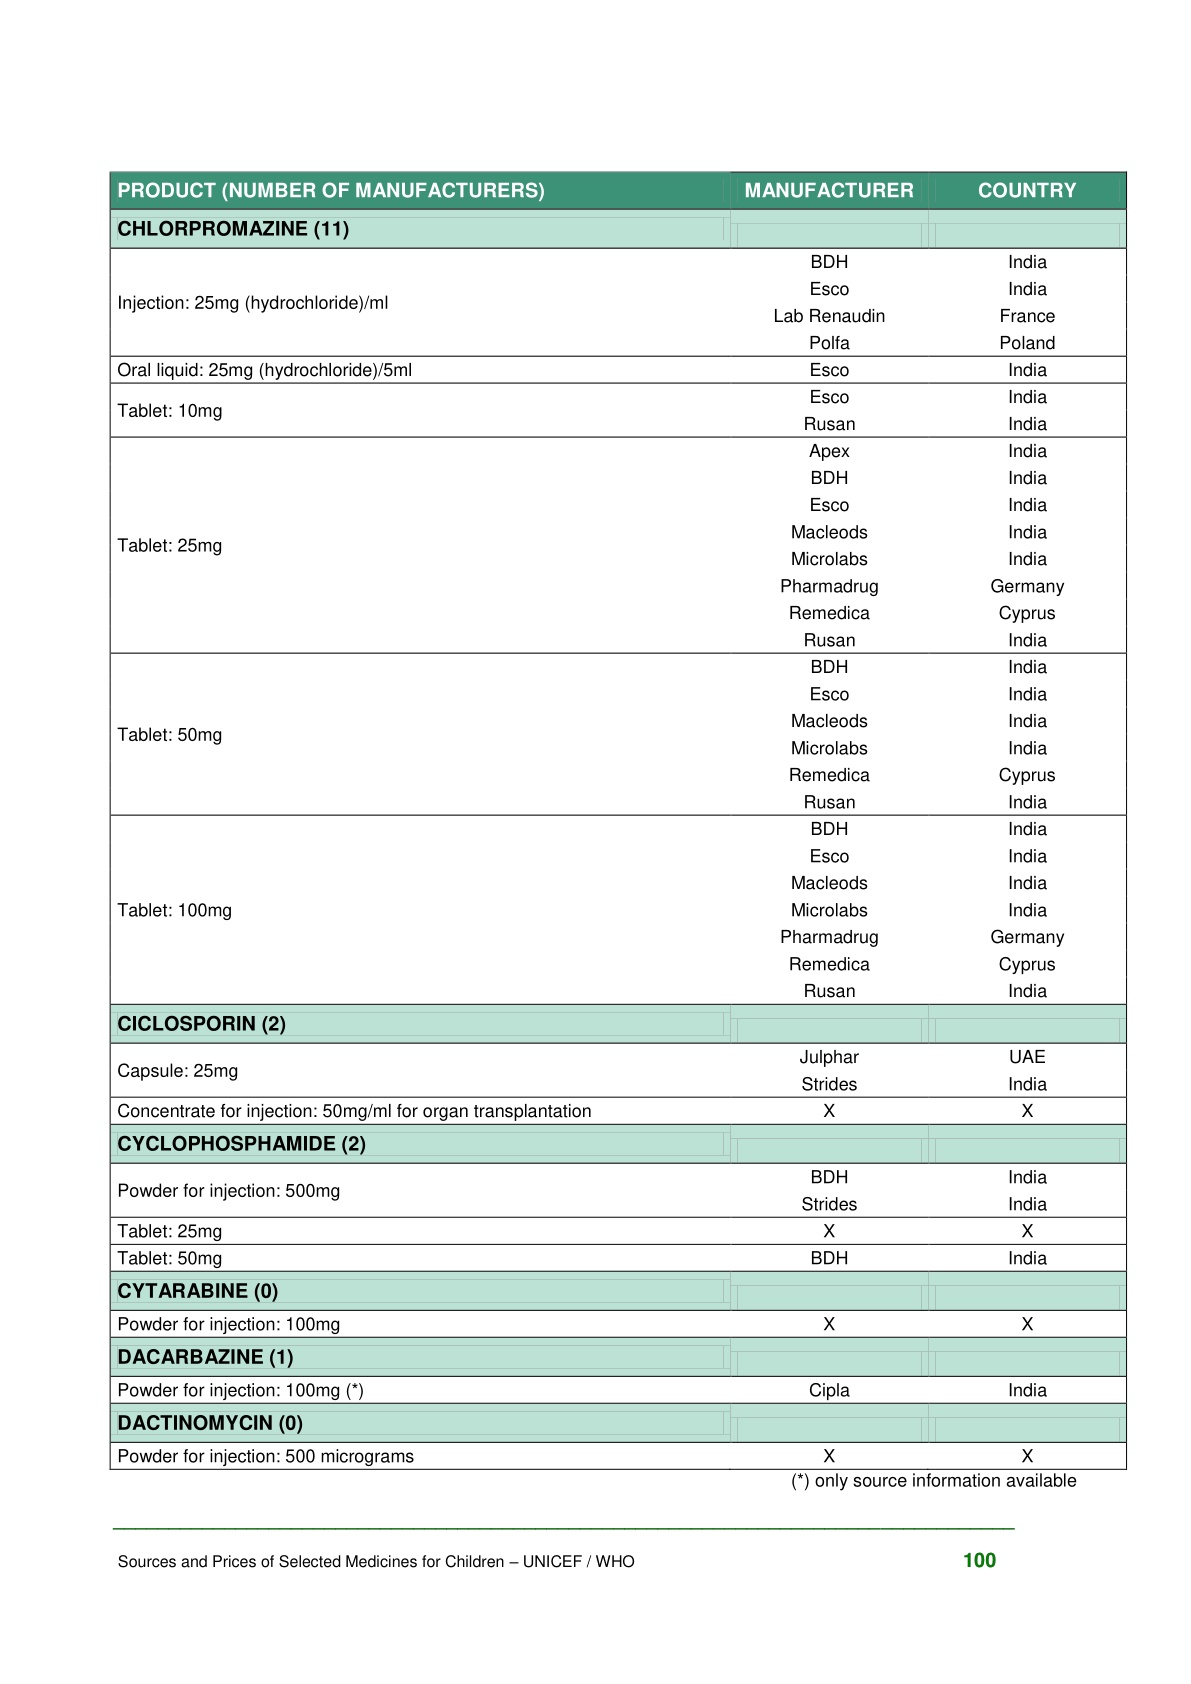partial_lined: (106, 167, 1129, 1473)
